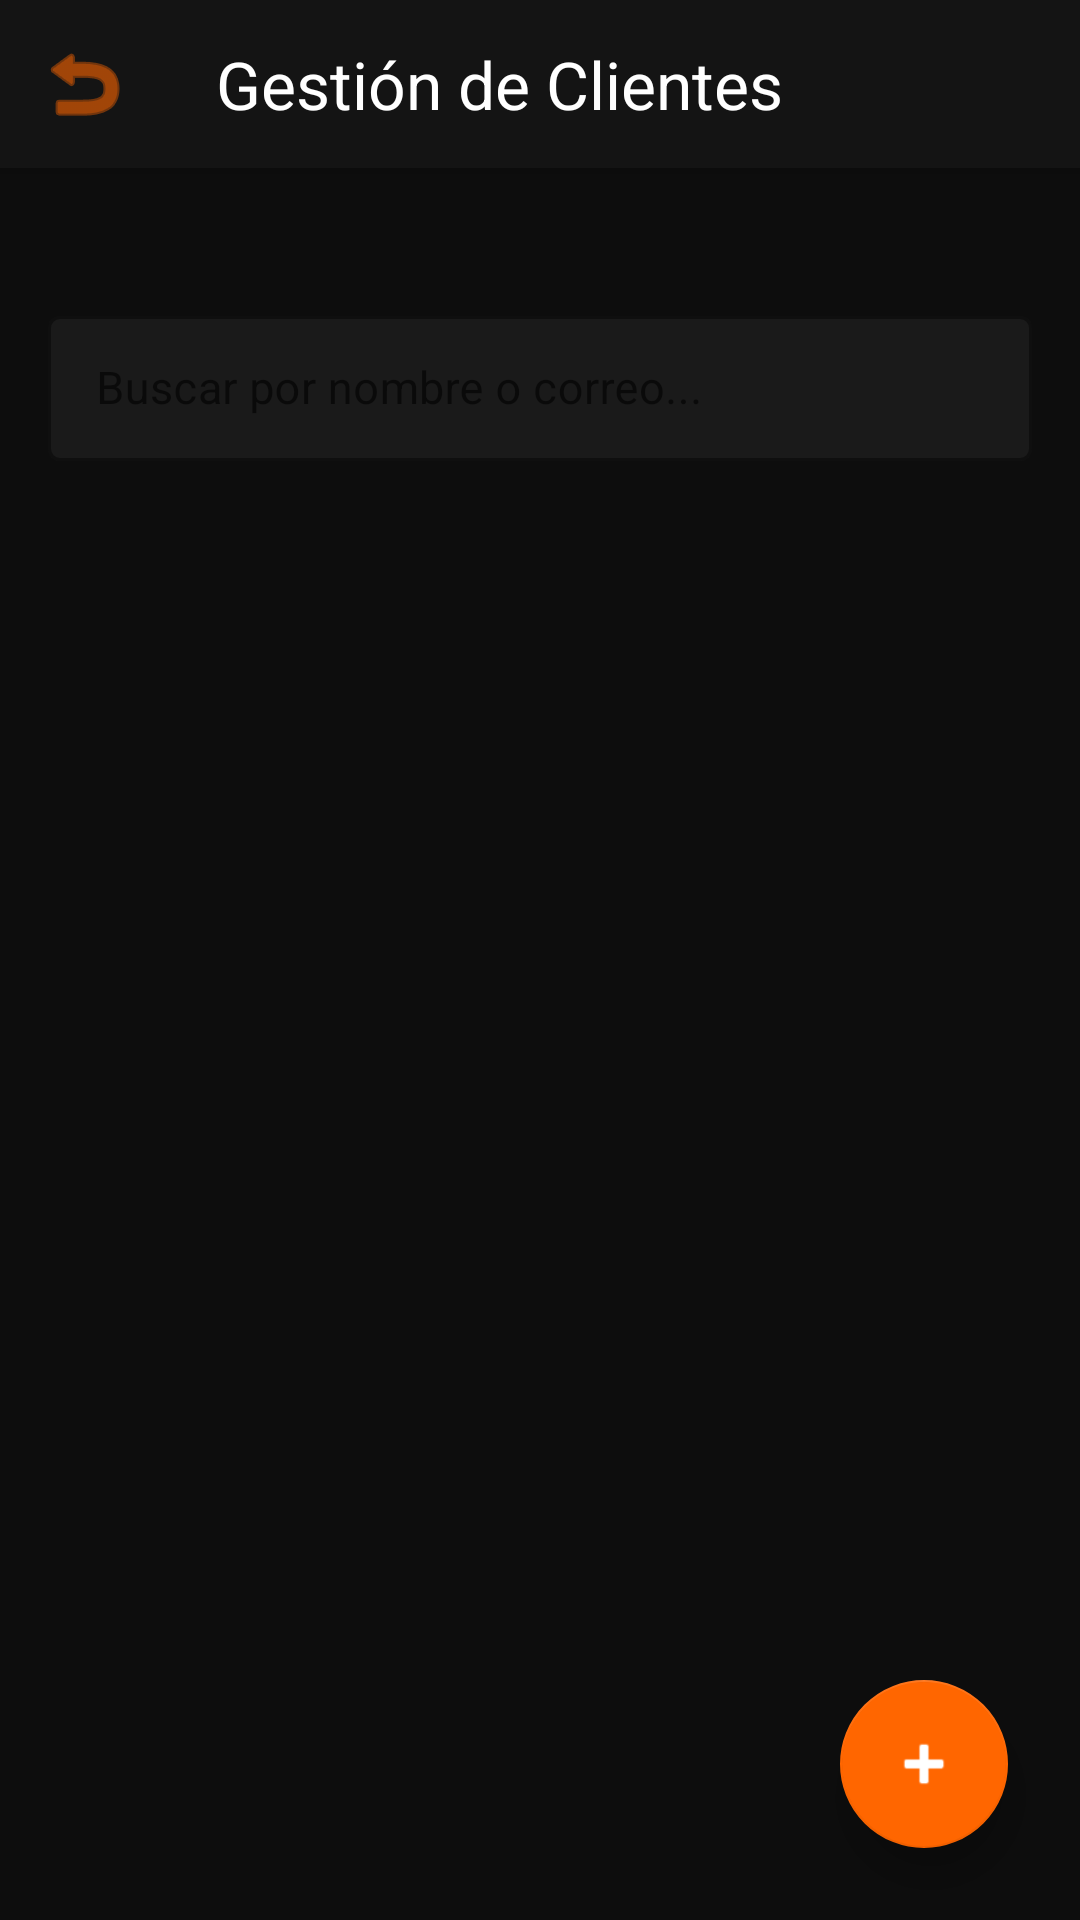

Named icons in this screenshot (1080 x 1920) and their centers, (x=x, y=y):
Agregar Cliente: (x=924, y=1764)
